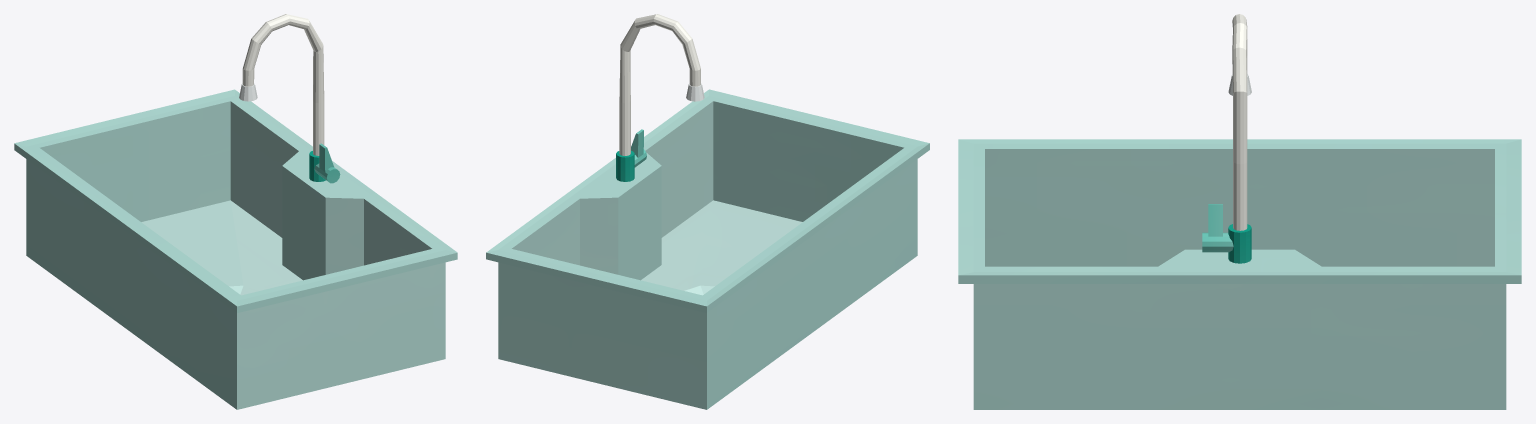
Rendered from SM_WaterTank.fbx.
3 views of the same model, side by side, from view 1: azimuth 30°, elevation 25°; view 2: azimuth 150°, elevation 25°; view 3: azimuth 270°, elevation 25° (orthographic). The views are drawn at different scales.
Parts seen in each view (by area): view 1: SM_WaterTank; view 2: SM_WaterTank; view 3: SM_WaterTank.
Part boxes in pixels (x1=…): SM_WaterTank: x1=14, y1=14, x2=457, y2=409; SM_WaterTank: x1=486, y1=14, x2=929, y2=409; SM_WaterTank: x1=958, y1=14, x2=1521, y2=409.
Bounding box in the file's own units: 42.33 × 51.42 × 74.08.
